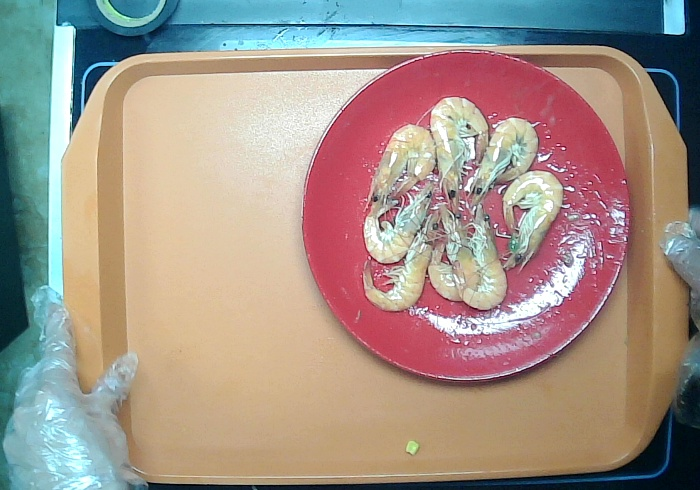HZYJPL-Hong_Se_Yuan_Pan: (295, 43, 640, 389)
